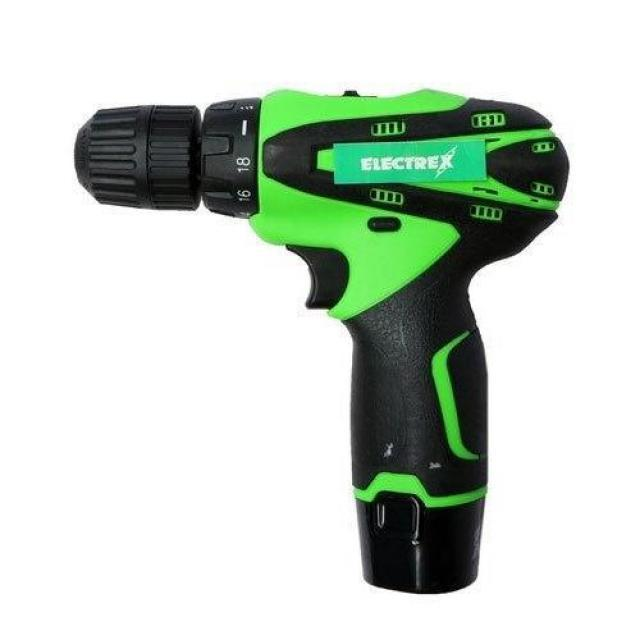drill: (72, 83, 573, 598)
